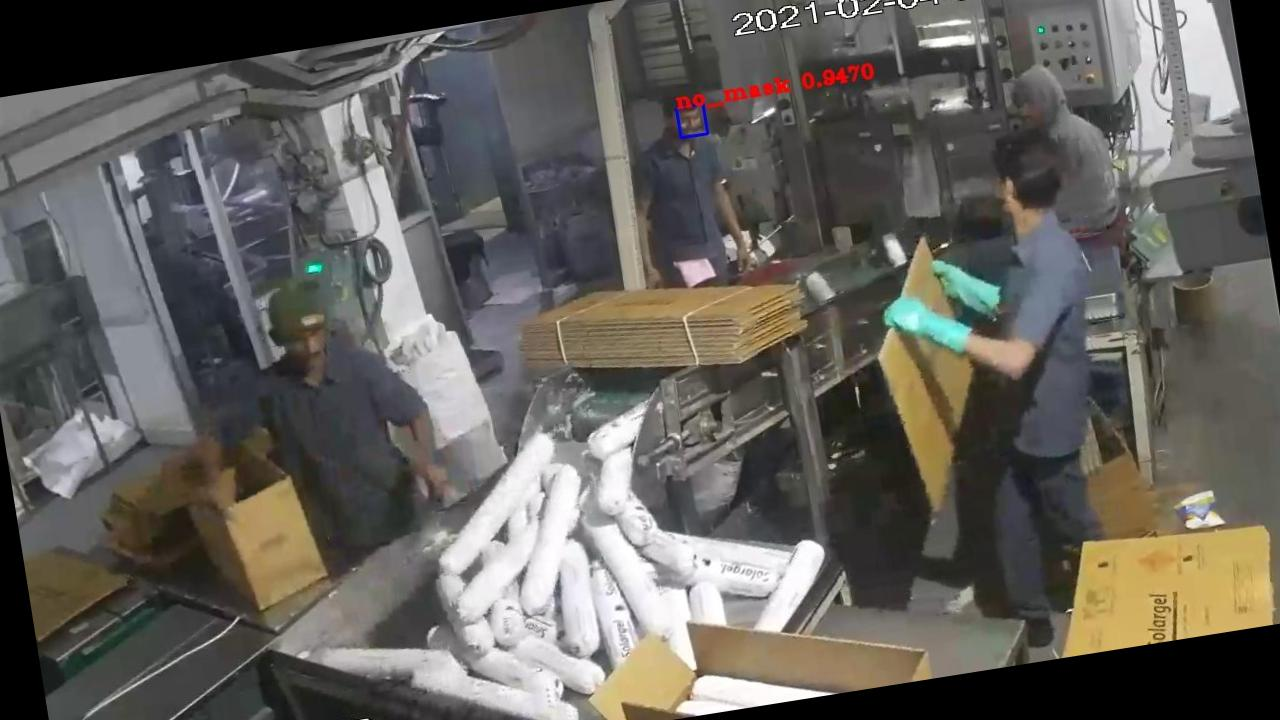Gloves: (871, 262, 991, 386), (928, 242, 1020, 335)
No-gloves: (173, 397, 259, 514), (610, 166, 680, 306), (699, 159, 772, 291), (398, 394, 462, 510)
